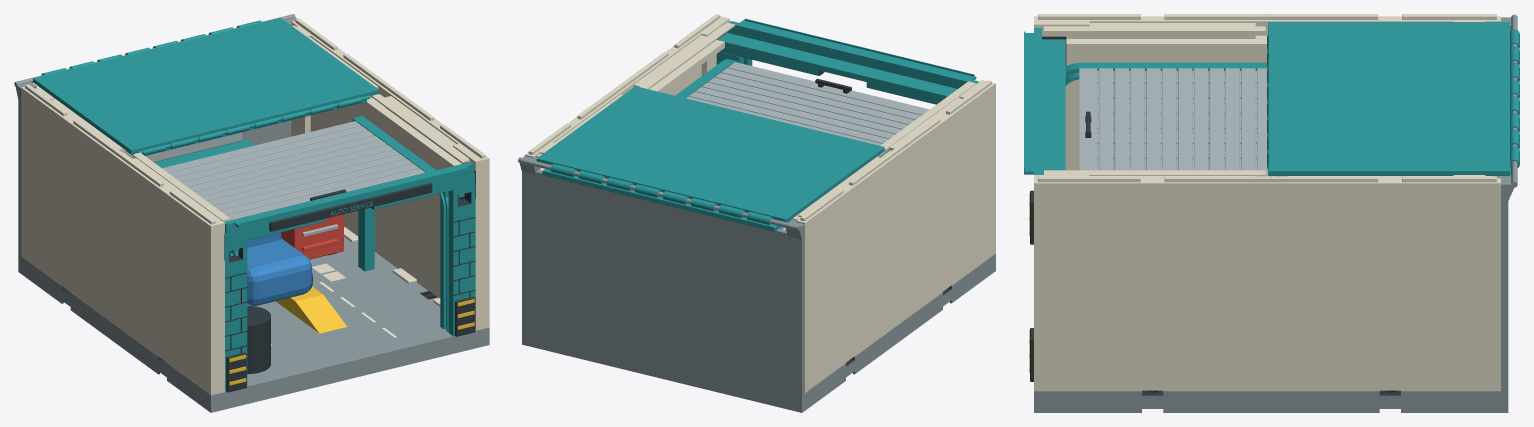
The model's file is modular-garage-simplified.glb.
3 renders of one model, left to right at view 1: azimuth 30°, elevation 25°; view 2: azimuth 150°, elevation 25°; view 3: azimuth 270°, elevation 25°, orthographic. The views are drawn at different scales.
Parts seen in each view (by area): view 1: Garage_Structural_Module, Garage_roof_rear, Garage_Removable_Front_Frame, REFERENCE CAR • car body, Tool_chest, Service_ramp_104, Spare_tire_stack, Garage_roof_front, PIP_Door_Slat_09, PIP_Door_Slat_05, PIP_Door_Slat_07, PIP_Door_Slat_03 (+9 smaller); view 2: Garage_Structural_Module, Garage_roof_rear, Garage_Removable_Front_Frame, PIP_Door_Slat_01, Garage_roof_front, PIP_Door_Slat_04, PIP_Door_Slat_03, PIP_Door_Slat_05, PIP_Door_Slat_06, PIP_Door_Slat_07, PIP_Door_Slat_02, PIP_Door_Slat_08; view 3: Garage_Structural_Module, Garage_roof_rear, Garage_Removable_Front_Frame, PIP_Door_Slat_01, PIP_Door_Slat_04, PIP_Door_Slat_10, PIP_Door_Slat_03, PIP_Door_Slat_09, PIP_Door_Slat_02, PIP_Door_Slat_08, PIP_Door_Slat_05, PIP_Door_Slat_11 (+3 smaller).
Boxes of the visible parts, x1,y1,x2,y2 form: Garage_Structural_Module: [14, 14, 489, 412]; Garage_roof_rear: [33, 18, 378, 154]; Garage_Removable_Front_Frame: [224, 115, 475, 392]; REFERENCE CAR • car body: [246, 238, 311, 305]; Tool_chest: [281, 214, 343, 259]; Service_ramp_104: [276, 286, 347, 333]; Spare_tire_stack: [246, 305, 270, 374]; Garage_roof_front: [39, 87, 366, 155]; PIP_Door_Slat_09: [181, 135, 380, 186]; PIP_Door_Slat_05: [207, 154, 405, 205]; PIP_Door_Slat_07: [194, 144, 392, 196]; PIP_Door_Slat_03: [220, 163, 418, 215]; Garage_Structural_Module: [518, 14, 995, 412]; Garage_roof_rear: [536, 86, 884, 225]; Garage_Removable_Front_Frame: [675, 18, 979, 157]; PIP_Door_Slat_01: [728, 62, 929, 115]; Garage_roof_front: [542, 169, 788, 231]; PIP_Door_Slat_04: [708, 77, 908, 129]; PIP_Door_Slat_03: [715, 72, 914, 124]; PIP_Door_Slat_05: [702, 82, 901, 134]; PIP_Door_Slat_06: [695, 87, 895, 138]; PIP_Door_Slat_07: [689, 91, 888, 143]; PIP_Door_Slat_02: [721, 68, 921, 119]; PIP_Door_Slat_08: [686, 96, 889, 152]; Garage_Structural_Module: [1034, 14, 1517, 412]; Garage_roof_rear: [1268, 22, 1519, 175]; Garage_Removable_Front_Frame: [1024, 28, 1266, 381]; PIP_Door_Slat_01: [1079, 68, 1098, 170]; PIP_Door_Slat_04: [1129, 68, 1146, 170]; PIP_Door_Slat_10: [1224, 68, 1241, 170]; PIP_Door_Slat_03: [1113, 68, 1130, 170]; PIP_Door_Slat_09: [1208, 68, 1225, 170]; PIP_Door_Slat_02: [1097, 68, 1114, 170]; PIP_Door_Slat_08: [1192, 68, 1209, 170]; PIP_Door_Slat_05: [1145, 68, 1162, 170]; PIP_Door_Slat_11: [1240, 68, 1257, 170].
Bounding box in the file's own units: 0.2 × 0.13 × 0.2505.
